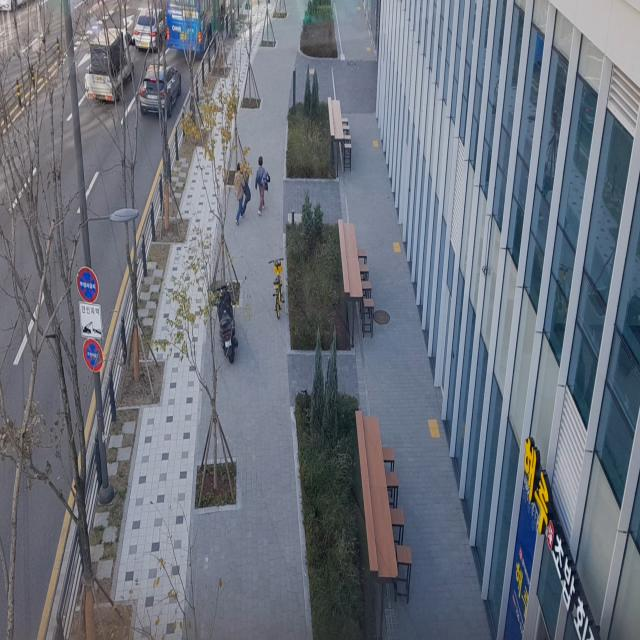Bus: (166, 0, 228, 61)
Car: (137, 60, 185, 121), (132, 0, 168, 56)
Truck: (82, 20, 138, 120)
